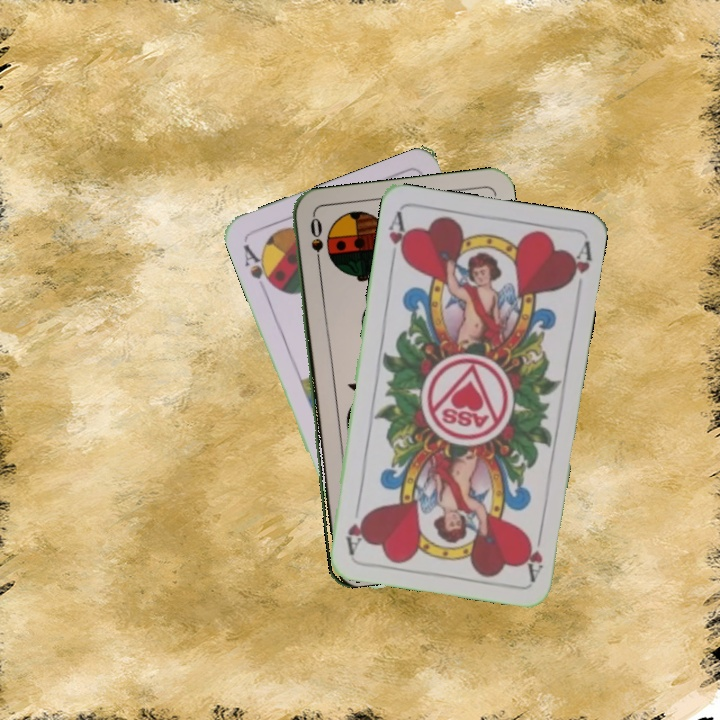HA: (384, 208, 411, 267), (520, 524, 546, 583)
SA: (239, 240, 278, 291)
SO: (306, 213, 326, 273)
